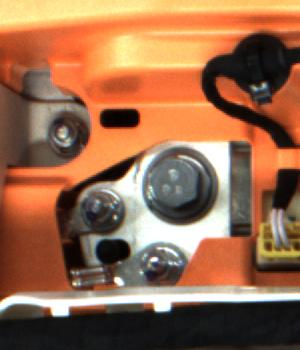nut_b: (138, 135, 231, 230)
screw_s: (137, 246, 184, 283), (77, 188, 116, 225), (46, 117, 82, 154)
